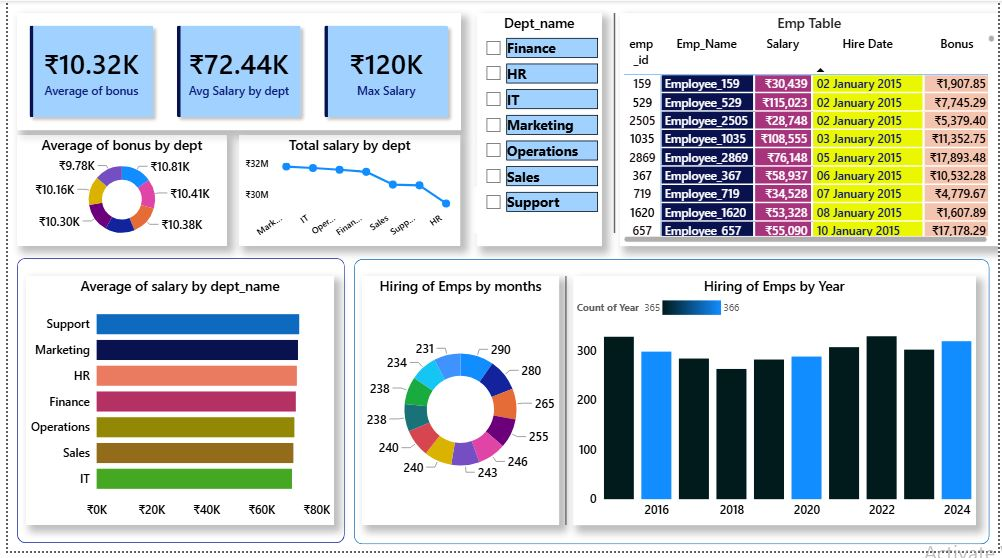

Layout of this report page (visuals, bound fields, positions):
{"tool":"powerbi","page":{"name":"Page 1","canvas":[1350,750],"ordinal":0},"visuals":[{"type":"slicer","title":"Dept_name","fields":{"Values":["employees_large_dataset.dept_name"]},"box":[639,16.5,169.5,318],"z":0},{"type":"shape","box":[12,351,447,388.5],"z":1000},{"type":"shape","box":[471.8,351.3,866.6,389],"z":2000},{"type":"shape","box":[751.9,374.5,18.9,339.7],"z":3000},{"type":"clusteredColumnChart","title":"Hiring of  Emps by Year","fields":{"Category":["employees_large_dataset.hire_date.Variation.Date Hierarchy.Year"],"Y":["CountNonNull(employees_large_dataset.emp_name)"]},"box":[770.8,374.5,548.7,339.7],"z":4000},{"type":"donutChart","title":"Hiring of Emps by months","fields":{"Category":["employees_large_dataset.hire_month"],"Y":["CountNonNull(employees_large_dataset.emp_name)"]},"box":[483,375,268.5,339],"z":5000},{"type":"cardVisual","fields":{"Data":["Avg(employees_large_dataset.bonus)","employees_large_dataset.Avg Salary by dept","employees_large_dataset.Max Salary"]},"box":[11.6,16,605.3,159.7],"z":6000},{"type":"textbox","box":[519,253.5,126,63],"z":7000},{"type":"shape","box":[819,16.5,15,300],"z":8000},{"type":"clusteredBarChart","fields":{"Category":["employees_large_dataset.dept_name"],"Y":["Avg(employees_large_dataset.salary)"]},"box":[24,375,420,339],"z":9000},{"type":"pivotTable","title":"Emp Table","fields":{"Values":["Min(employees_large_dataset.emp_name)","Sum(employees_large_dataset.salary)","Min(employees_large_dataset.hire_date)","Sum(employees_large_dataset.bonus)"],"Rows":["employees_large_dataset.emp_id"]},"box":[834,16.5,516,318],"z":10000},{"type":"donutChart","title":"Average of bonus by dept","fields":{"Y":["Avg(employees_large_dataset.bonus)"],"Category":["employees_large_dataset.dept_name"]},"box":[11.6,182.9,286,151],"z":10001},{"type":"lineChart","title":"Total salary by dept","fields":{"Category":["employees_large_dataset.dept_name"],"Y":["Sum(employees_large_dataset.salary)"]},"box":[315,182.9,301.9,151],"z":10002}]}

Visuals, with their boxes in screenshot pixels (x1, y1, x2, y2), scaled from the page's 1350x750 canvas onto the 1002x558 screenshot:
"Dept_name" slicer: bbox=(474, 12, 600, 249)
shape: bbox=(9, 261, 341, 550)
shape: bbox=(350, 261, 993, 551)
shape: bbox=(558, 279, 572, 531)
"Hiring of  Emps by Year" clusteredColumnChart: bbox=(572, 279, 979, 531)
"Hiring of Emps by months" donutChart: bbox=(358, 279, 558, 531)
cardVisual - Avg(employees_large_dataset.bonus) x employees_large_dataset.Avg Salary by dept: bbox=(9, 12, 458, 131)
textbox: bbox=(385, 189, 479, 235)
shape: bbox=(608, 12, 619, 235)
clusteredBarChart - employees_large_dataset.dept_name x Avg(employees_large_dataset.salary): bbox=(18, 279, 330, 531)
"Emp Table" pivotTable: bbox=(619, 12, 1001, 249)
"Average of bonus by dept" donutChart: bbox=(9, 136, 221, 248)
"Total salary by dept" lineChart: bbox=(234, 136, 458, 248)
